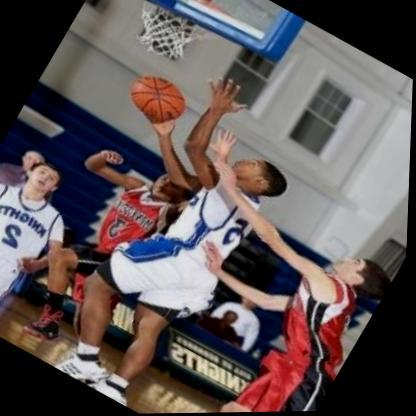basketball: (114, 57, 203, 141)
